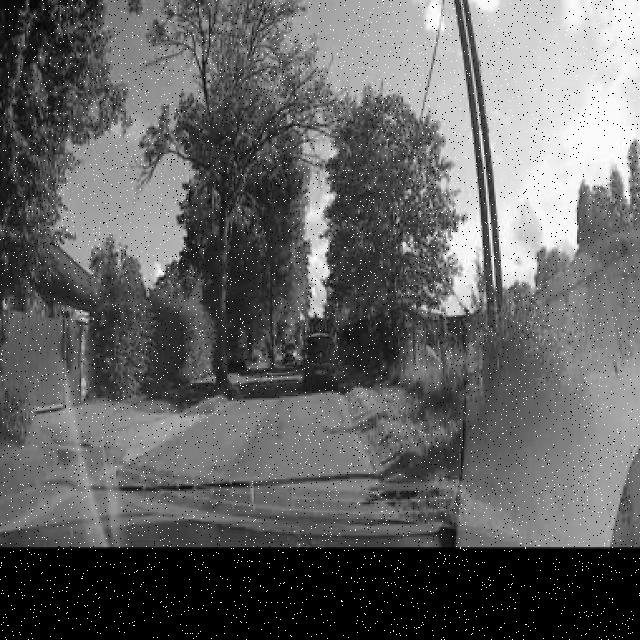clear-road: (137, 391, 375, 481)
